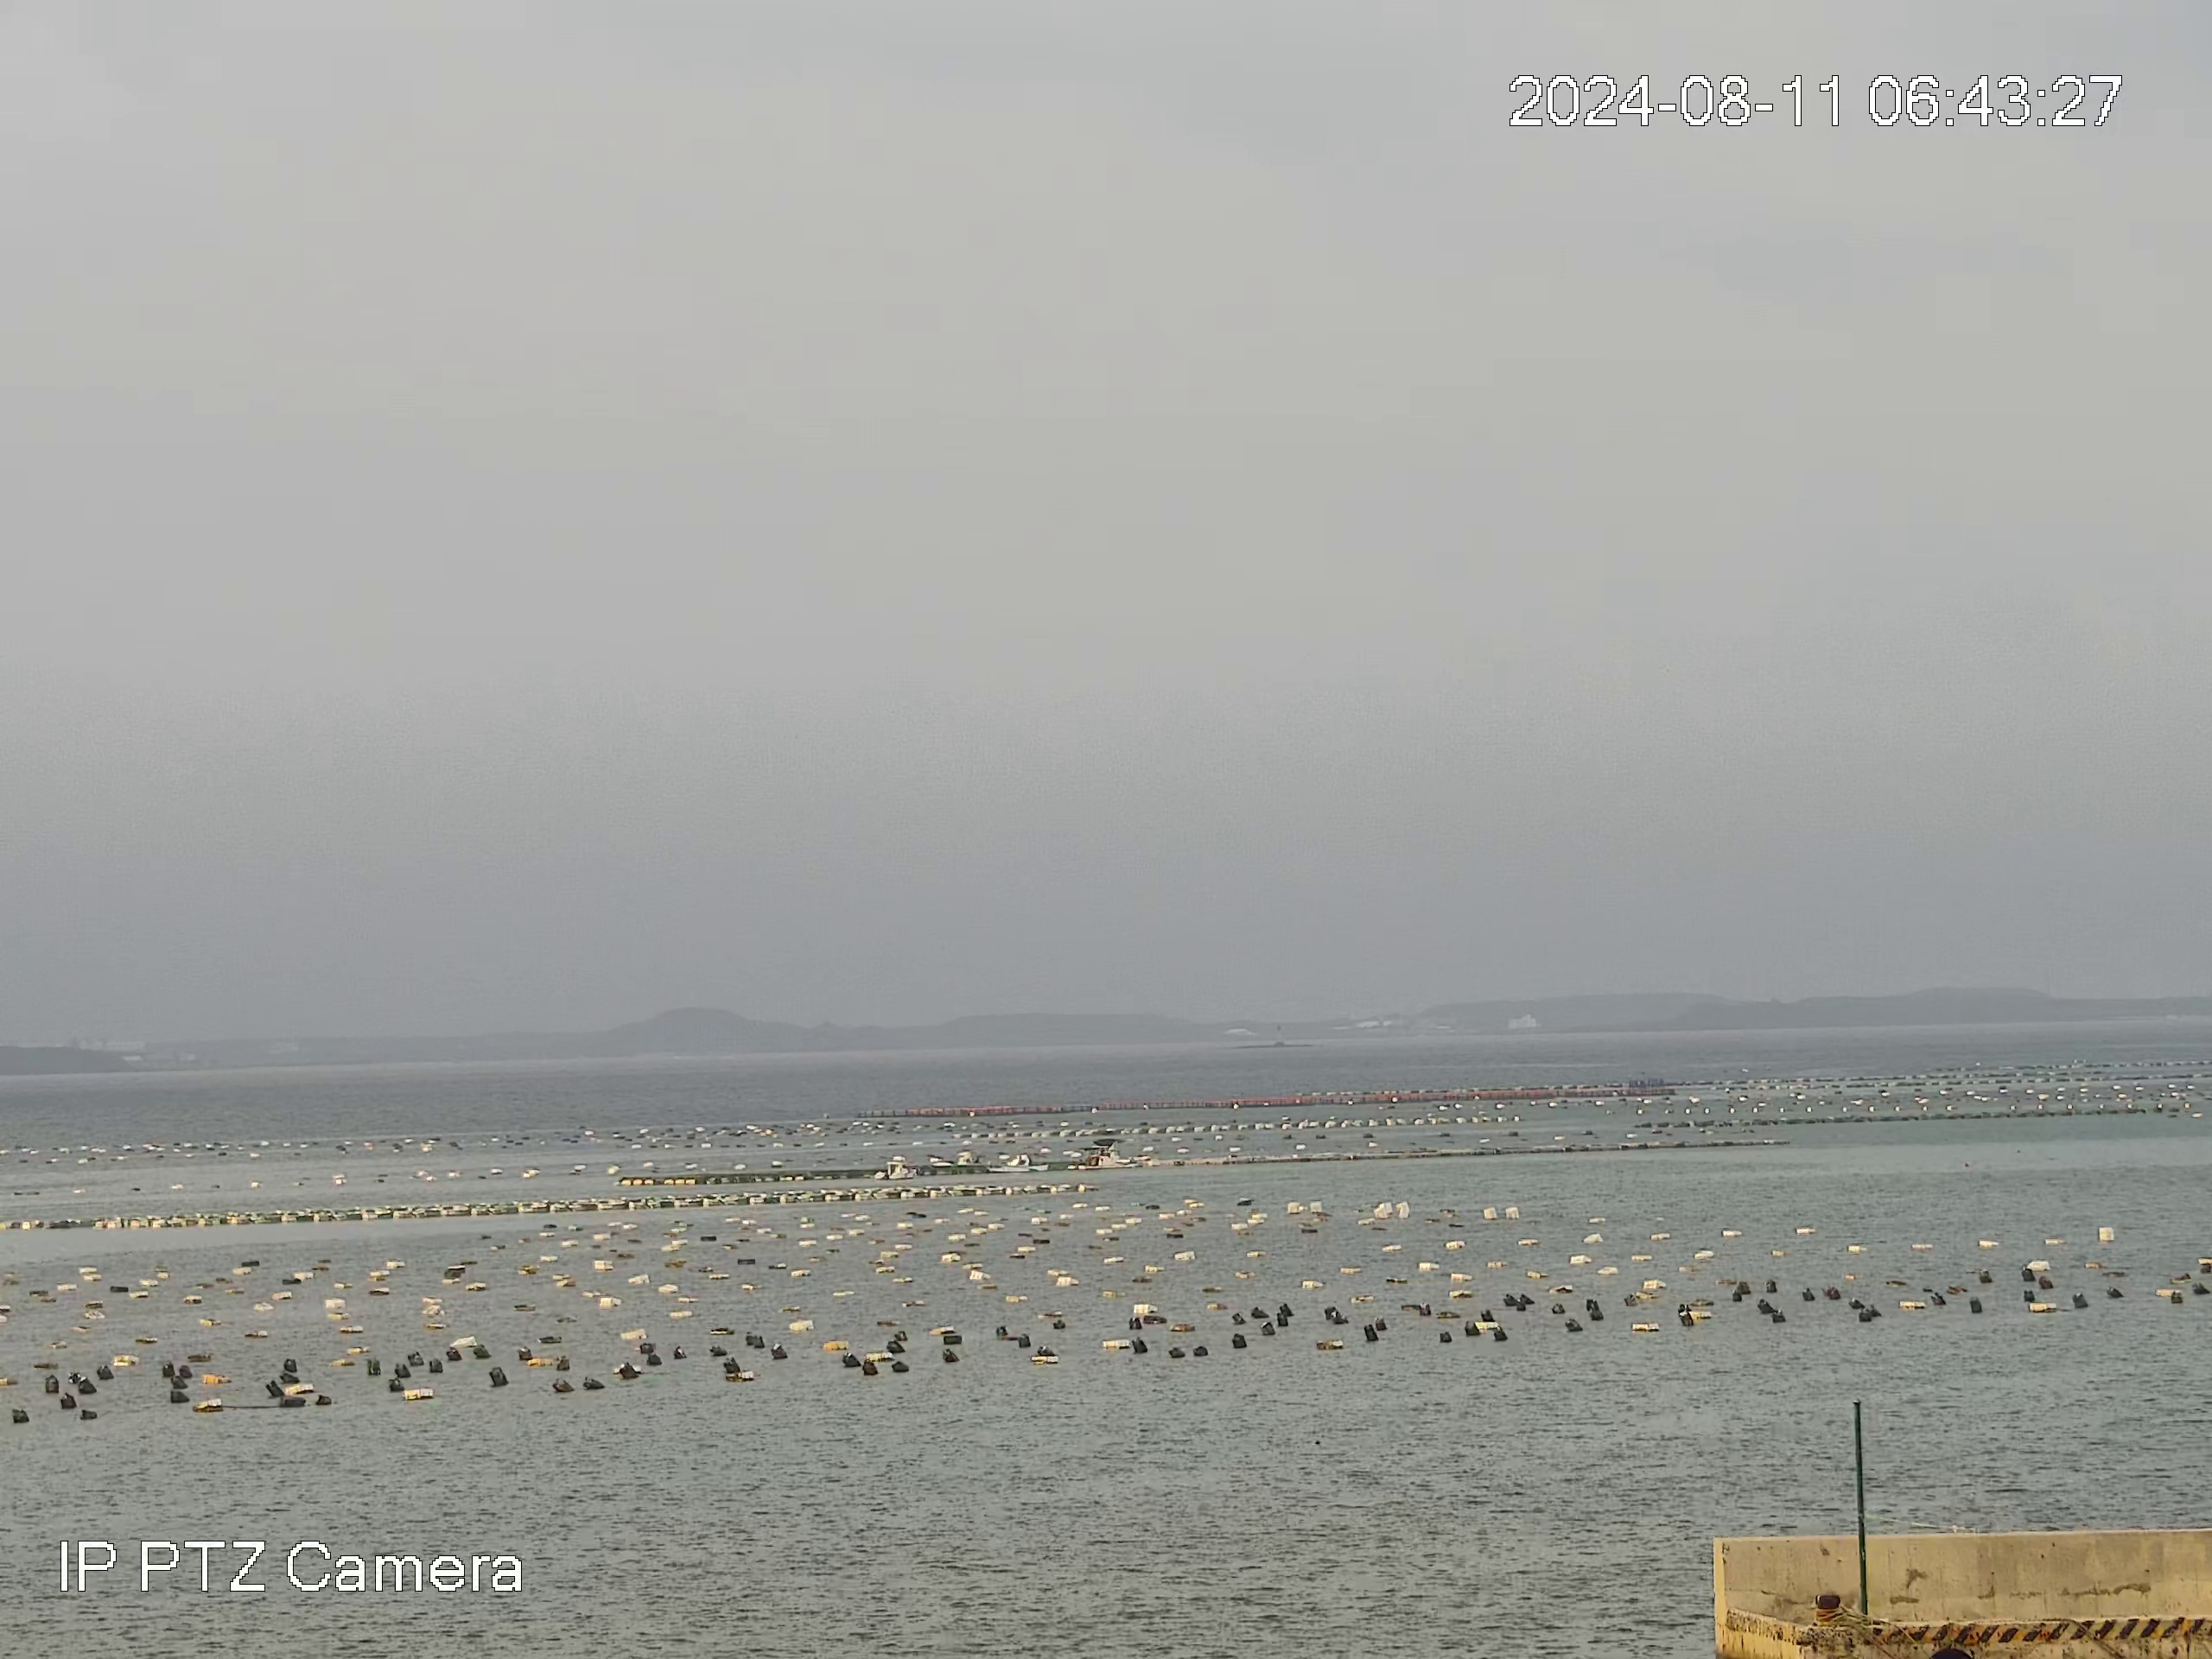boat: (986, 1152, 1050, 1175), (925, 1147, 984, 1168), (873, 1154, 920, 1180), (1068, 1150, 1116, 1169)
